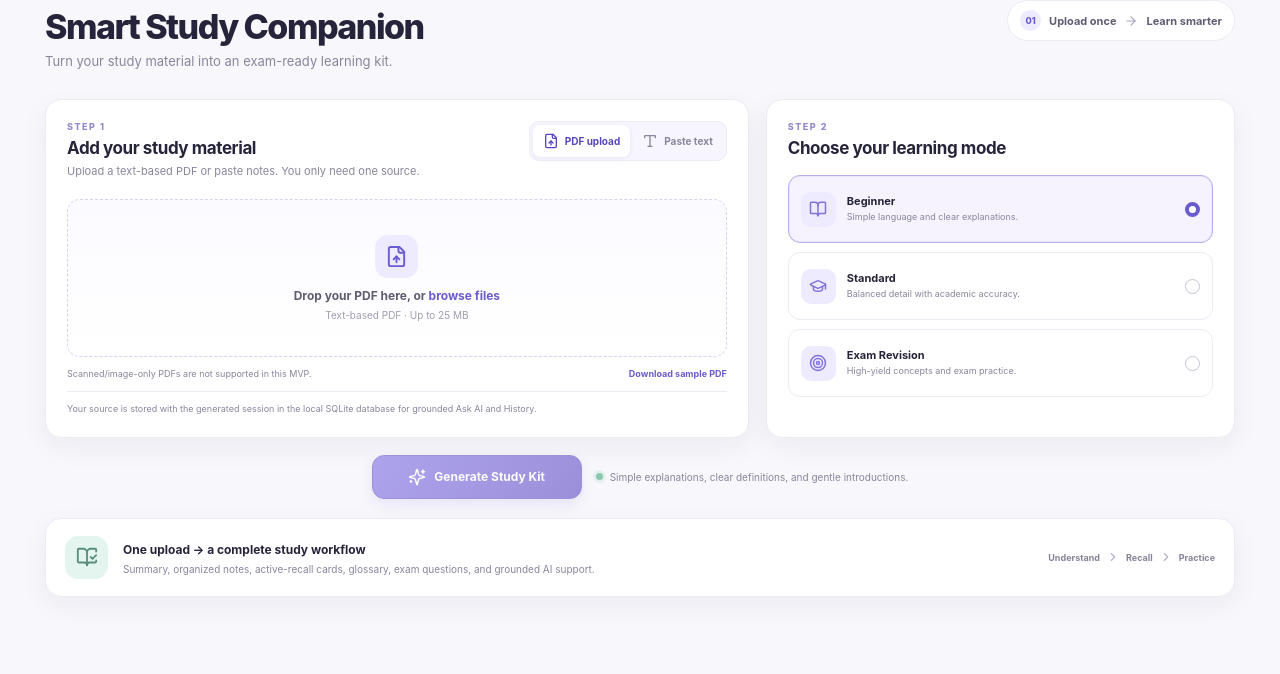
Test: working interactive controls › submits pasted text and renders the returned kit inside Home tabs
The width and height of the screenshot is (1280, 674).
Click the tab "Paste text". click: [678, 141]
box: x1=632 y1=125 x2=723 y2=157
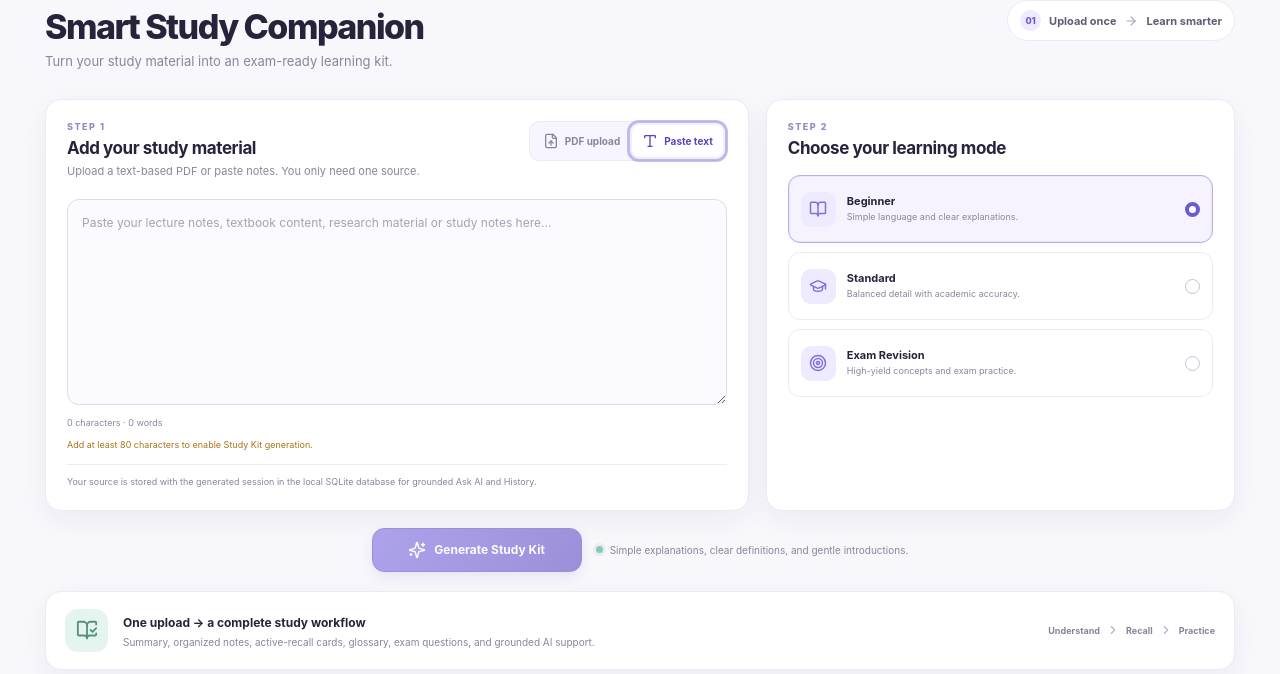
Type "A computer network links computers and other devices so they can exchange data and share resources. Communication protocols define how connected devices send and receive information." into the text box named "Paste your study material". click: [397, 302]
box: x1=67 y1=199 x2=727 y2=406
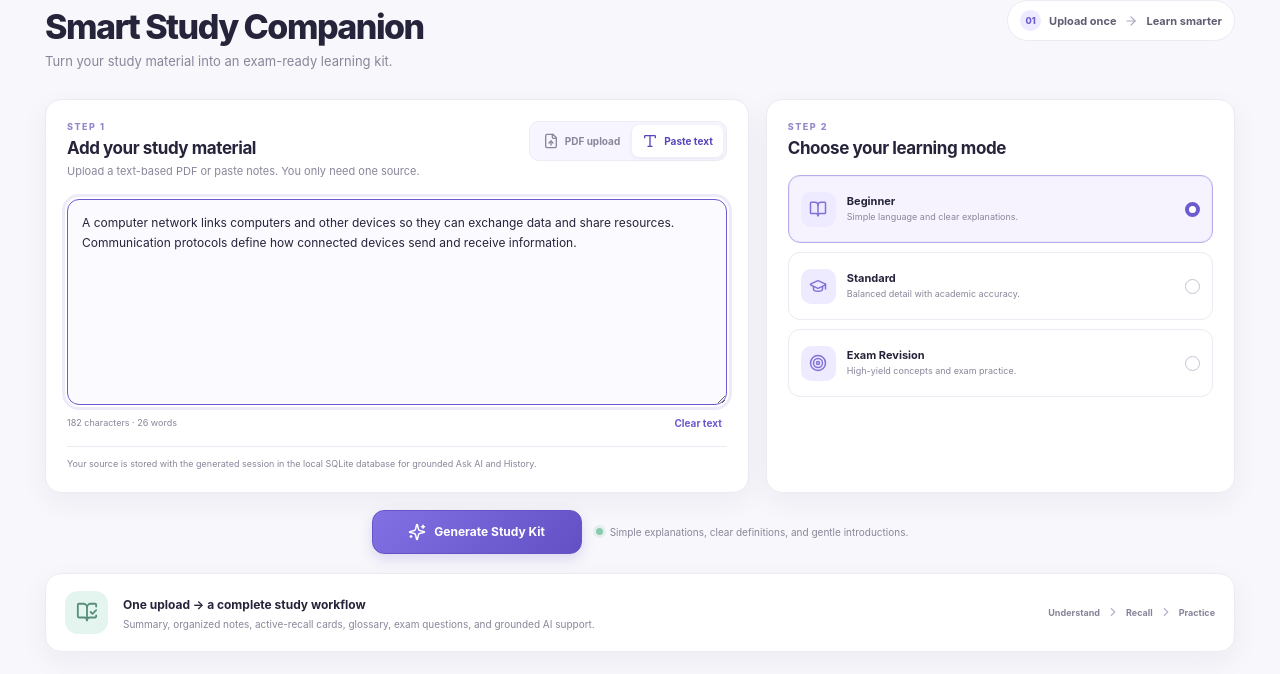
Check: the button "Generate Study Kit" is enabled
Click the button "Generate Study Kit". click: [477, 532]
box: x1=372 y1=510 x2=582 y2=554
(page scrolled)
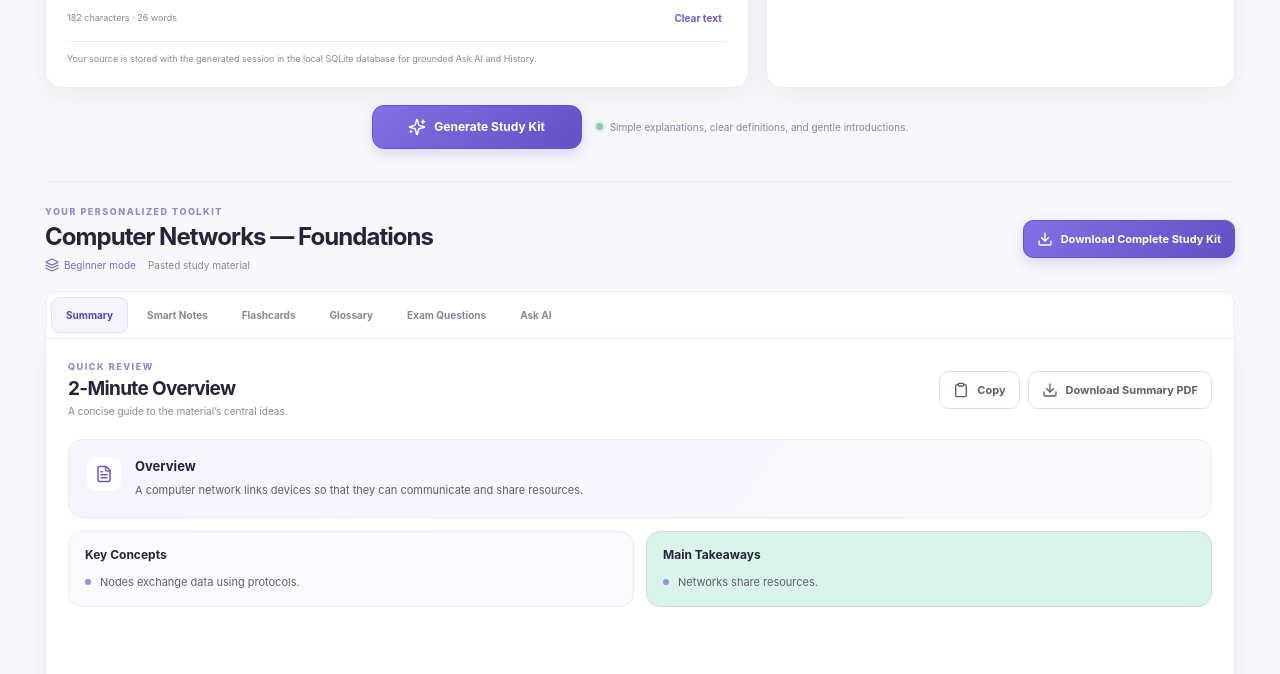
Check: the heading "Computer Networks — Foundations" is shown, box x1=45 y1=222 x2=433 y2=251
Check: the text "A computer network links devices" is shown, box x1=135 y1=483 x2=583 y2=497
Click the tab "Exam Questions". click: [447, 315]
box: x1=392 y1=297 x2=501 y2=333
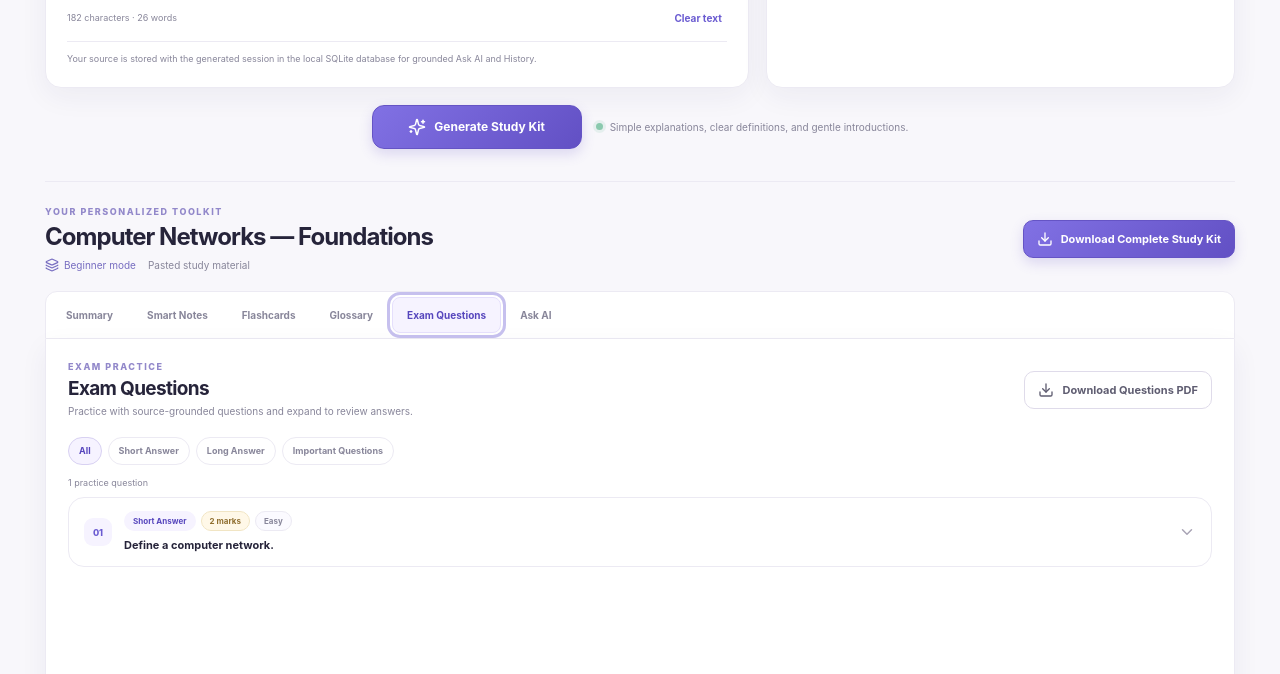
Check: the text "Define a computer network." is shown, box x1=124 y1=538 x2=274 y2=552
